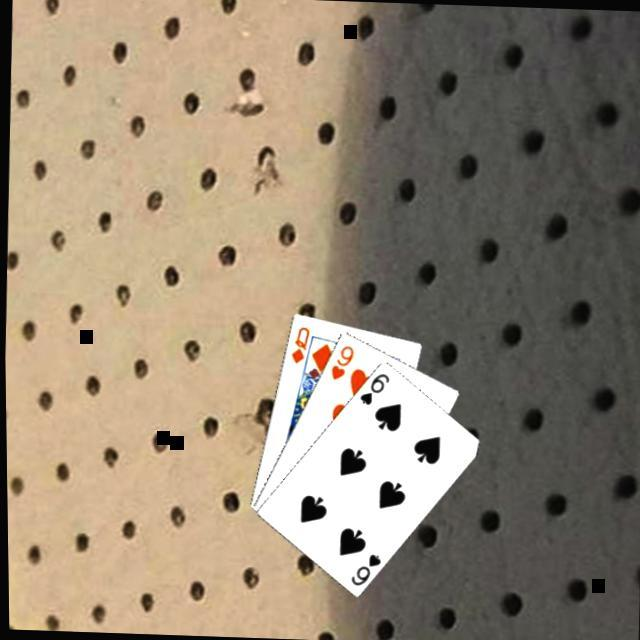6S: (343, 552, 380, 591), (353, 370, 388, 409)
9H: (324, 343, 353, 384)
QD: (283, 324, 309, 367)
